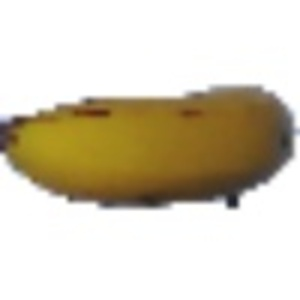banana: (1, 74, 296, 217)
